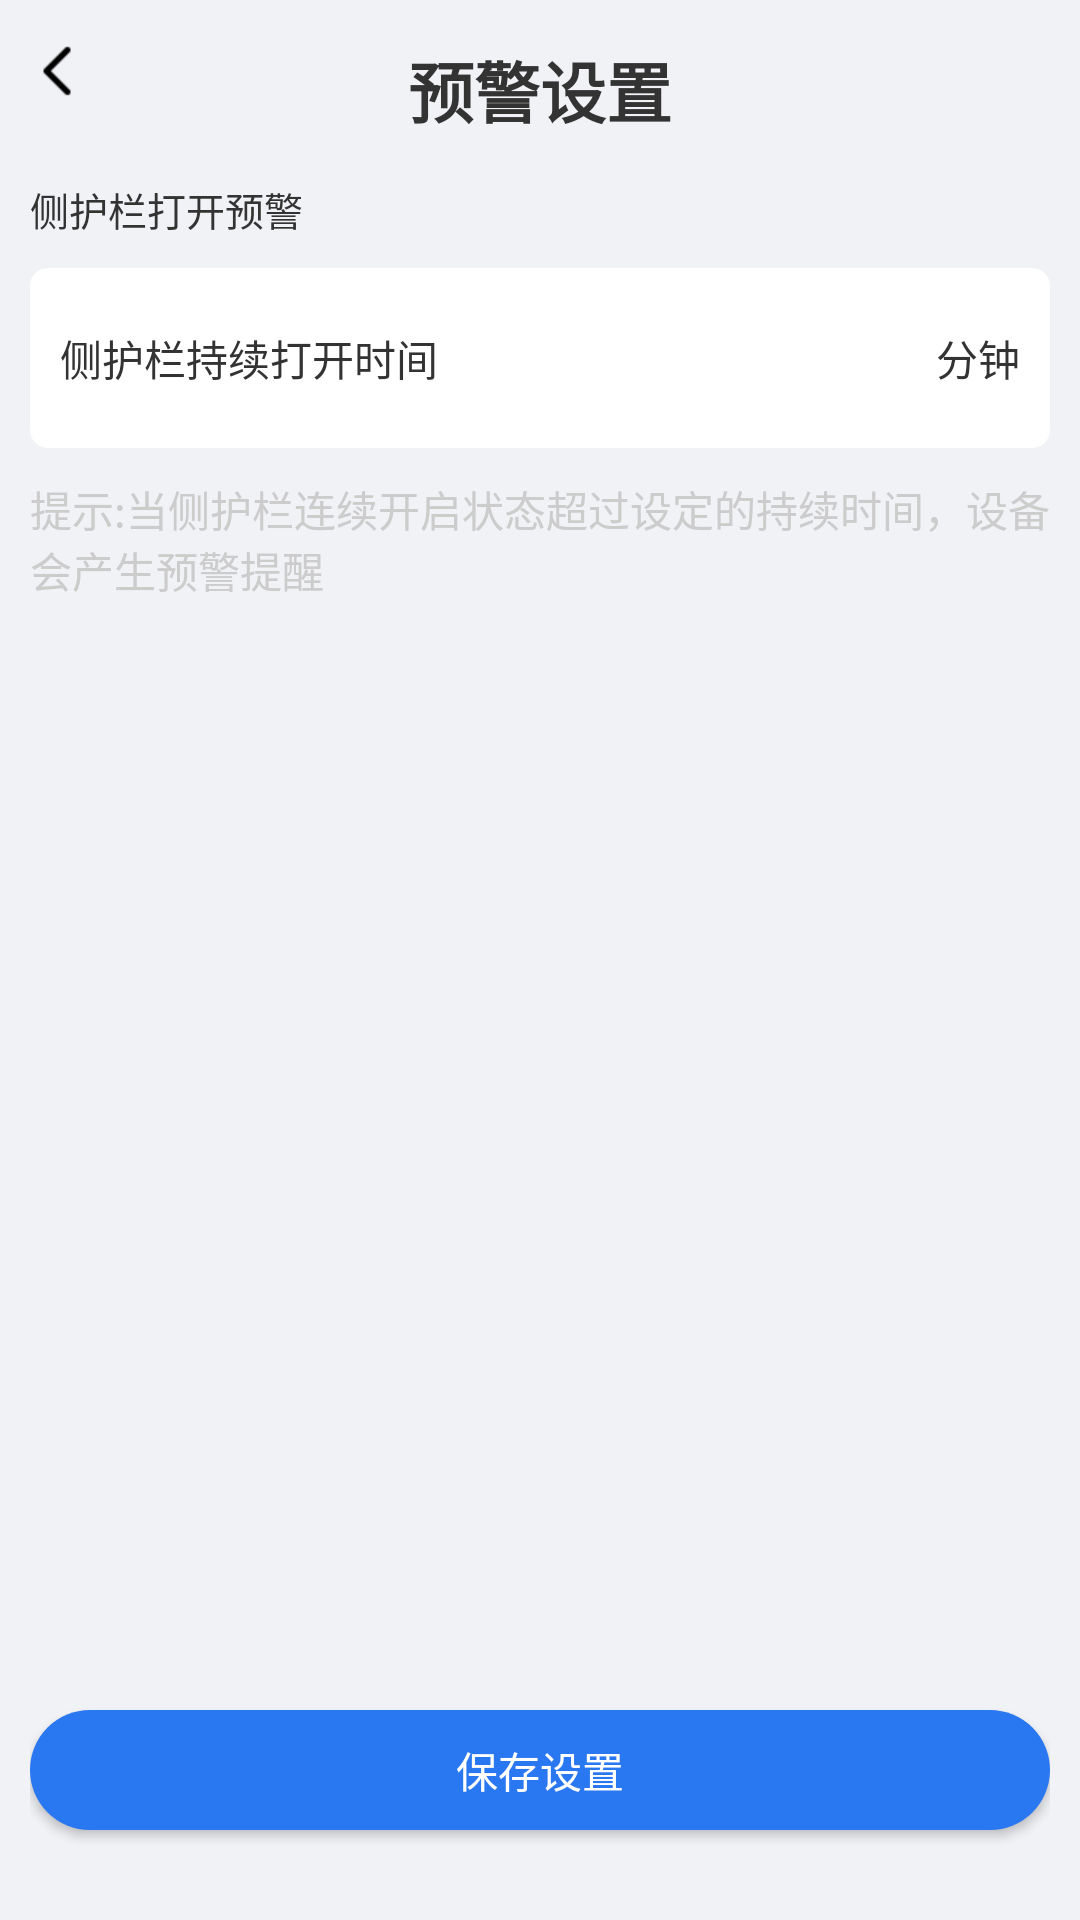

Icons on this 1080w x 1920h Android screen, each with its box as rect(x1, y1, x2, y2):
back: rect(43, 46, 71, 96)
